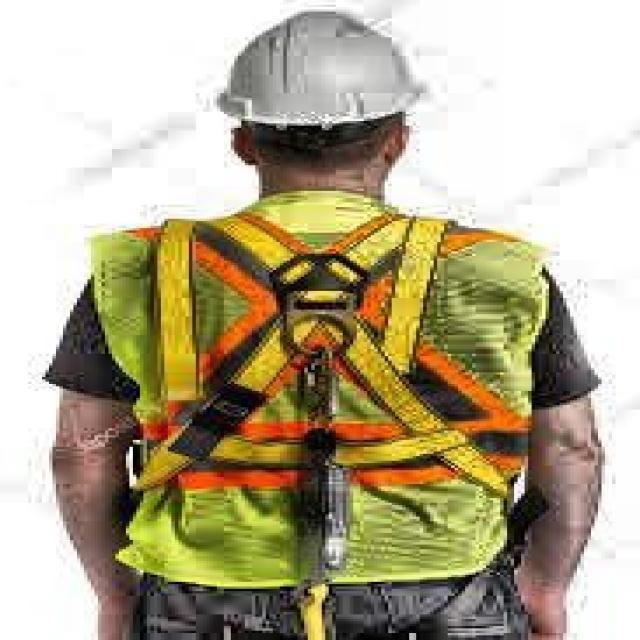Arnes_seguridad: (119, 199, 540, 506)
